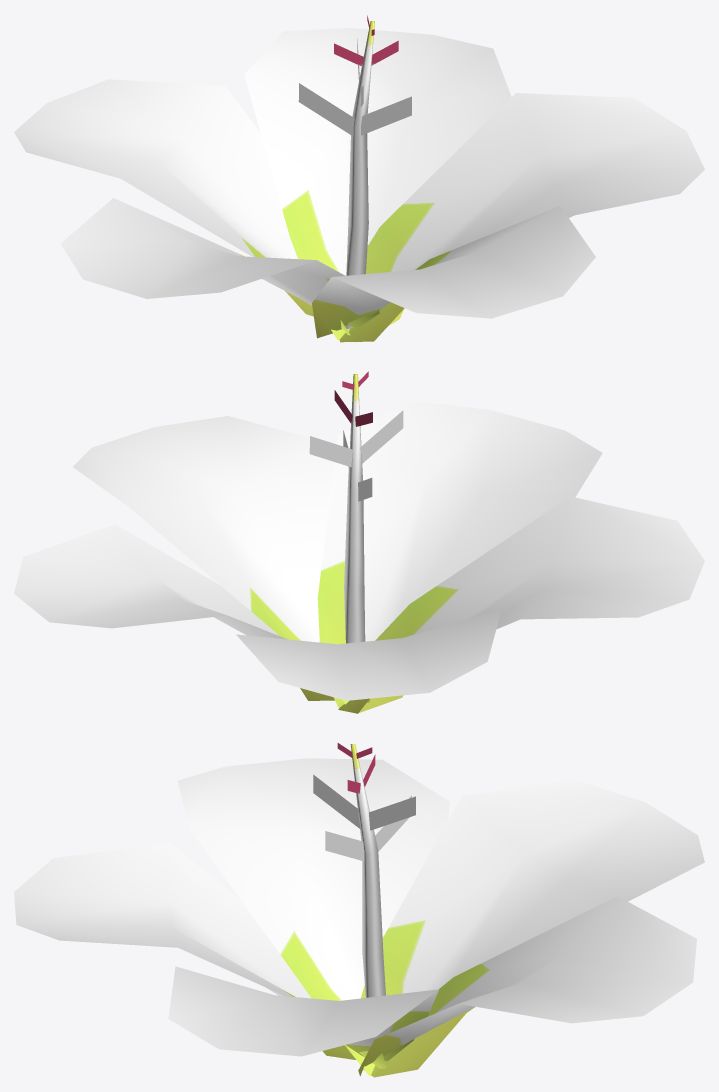
Rendered from HibiscusFlower3.fbx.
3 views of the same model, one above another, from view 1: azimuth 30°, elevation 25°; view 2: azimuth 150°, elevation 25°; view 3: azimuth 270°, elevation 25° (orthographic). The views are drawn at different scales.
Visible parts, largest first — view 1: Plane.023; view 2: Plane.023; view 3: Plane.023.
Boxes of the visible parts, box(x1,y1,x2,y2) form: Plane.023: box(14, 15, 704, 342); Plane.023: box(14, 371, 704, 713); Plane.023: box(14, 743, 704, 1077).
Size of the model in its own units: 40.86 by 20.85 by 39.5.
